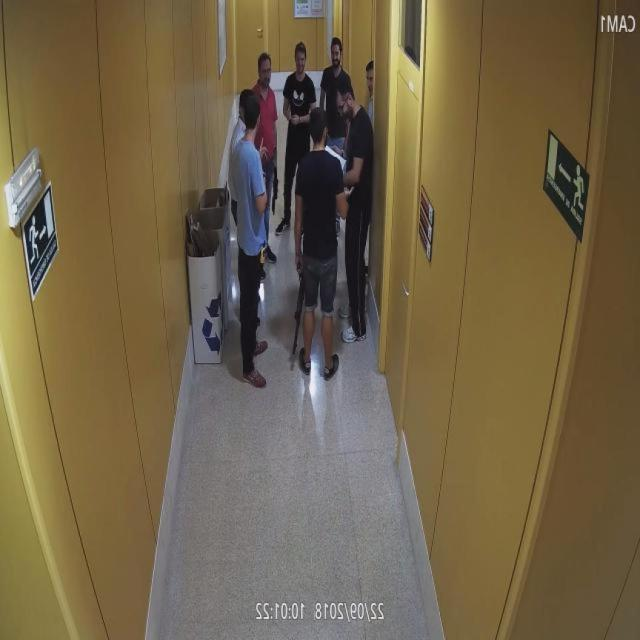pistol: (270, 143, 278, 168)
